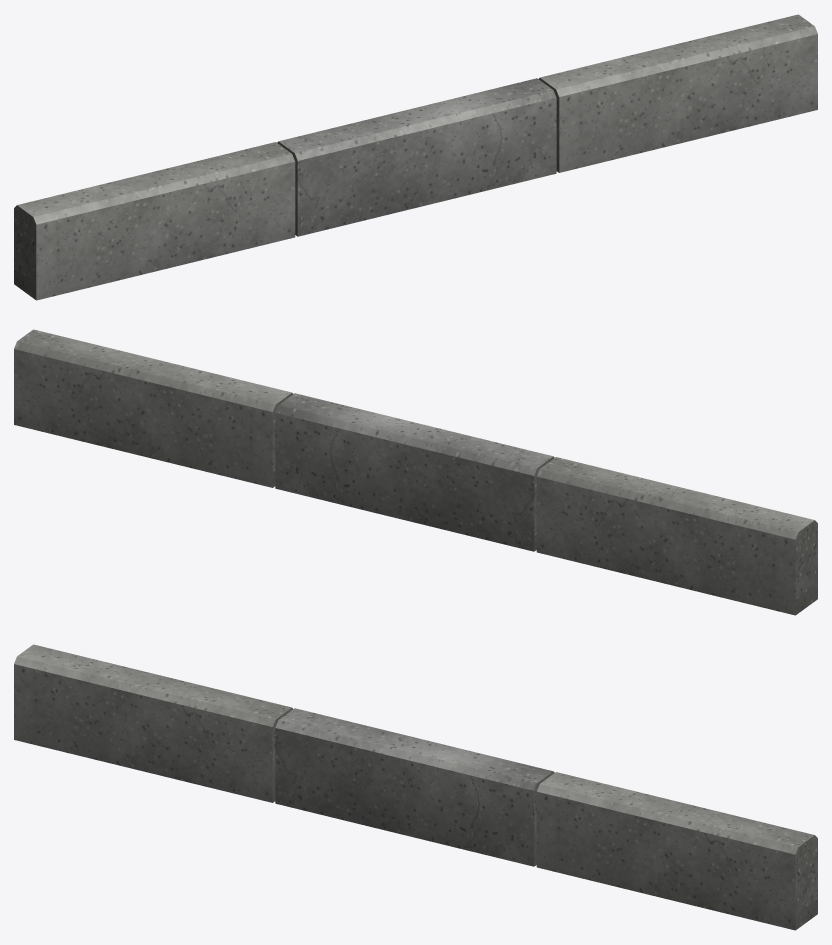
The model's file is curb.obj.
3 renders of one model, top to bottom at view 1: azimuth 30°, elevation 25°; view 2: azimuth 150°, elevation 25°; view 3: azimuth 330°, elevation 25°, orthographic.
Parts seen in each view (by area): view 1: curb; view 2: curb; view 3: curb.
Boxes of the visible parts, box(x1,y1,x2,y2) form: curb: box(14, 14, 817, 300); curb: box(14, 329, 817, 615); curb: box(14, 644, 817, 930).
Bounding box in the file's own units: 3.02 × 0.3 × 0.15.
1 material, 1 textured.
